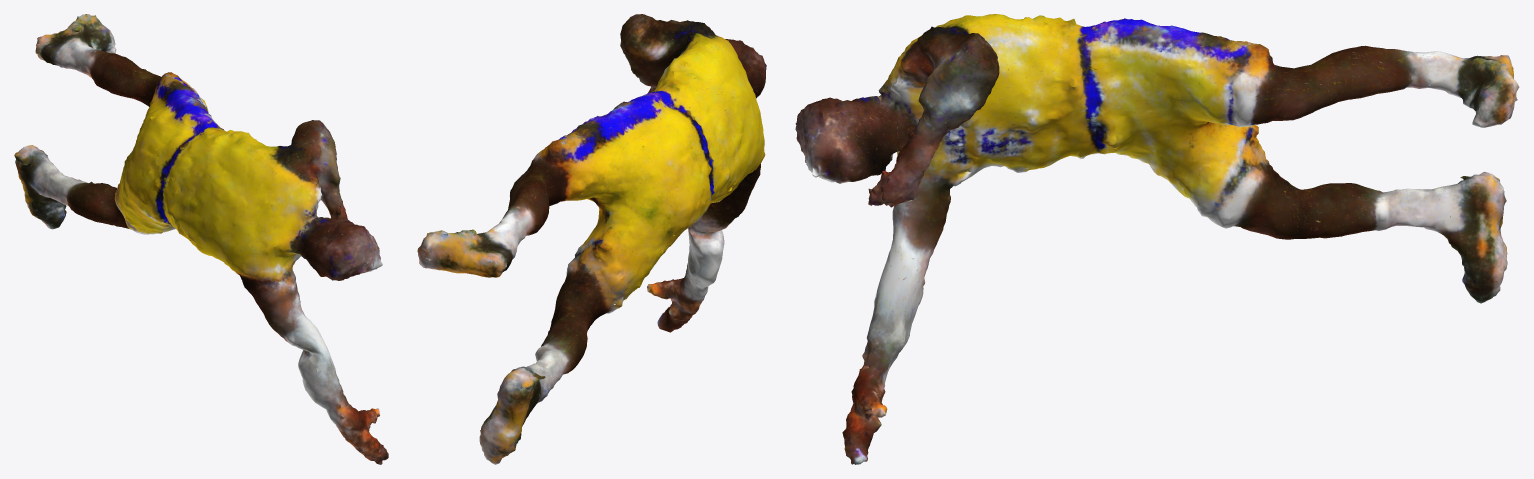
The model's file is lebron_after.gltf.
3 views of the same model, side by side, from view 1: azimuth 30°, elevation 25°; view 2: azimuth 150°, elevation 25°; view 3: azimuth 270°, elevation 25° (orthographic). The views are drawn at different scales.
Parts seen in each view (by area): view 1: pose1; view 2: pose1; view 3: pose1.
Boxes of the visible parts, x1,y1,x2,y2 form: pose1: (14, 14, 388, 464); pose1: (417, 14, 766, 464); pose1: (795, 14, 1519, 464).
Size of the model in its own units: 0.3776 by 0.7889 by 1.25.
1 material, 1 textured.
